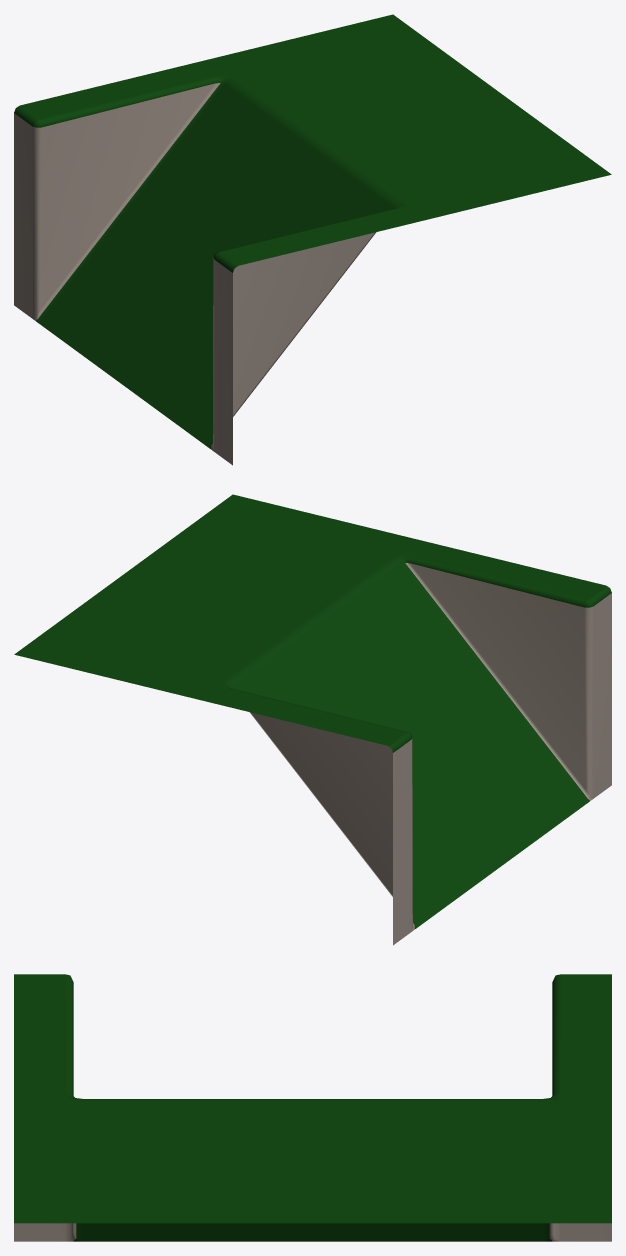
The model's file is Cliff_Stair.fbx.
The picture shows the model from 3 angles, top to bottom: view 1: azimuth 30°, elevation 25°; view 2: azimuth 150°, elevation 25°; view 3: azimuth 270°, elevation 25°; orthographic projection. The views are drawn at different scales.
Parts seen in each view (by area): view 1: Cliff_Stair; view 2: Cliff_Stair; view 3: Cliff_Stair.
Boxes of the visible parts, x1,y1,x2,y2 form: Cliff_Stair: (14,14,611,465); Cliff_Stair: (14,494,611,945); Cliff_Stair: (14,974,611,1241).
Size of what is drawn, in the model's own units: 200 by 100 by 200.
